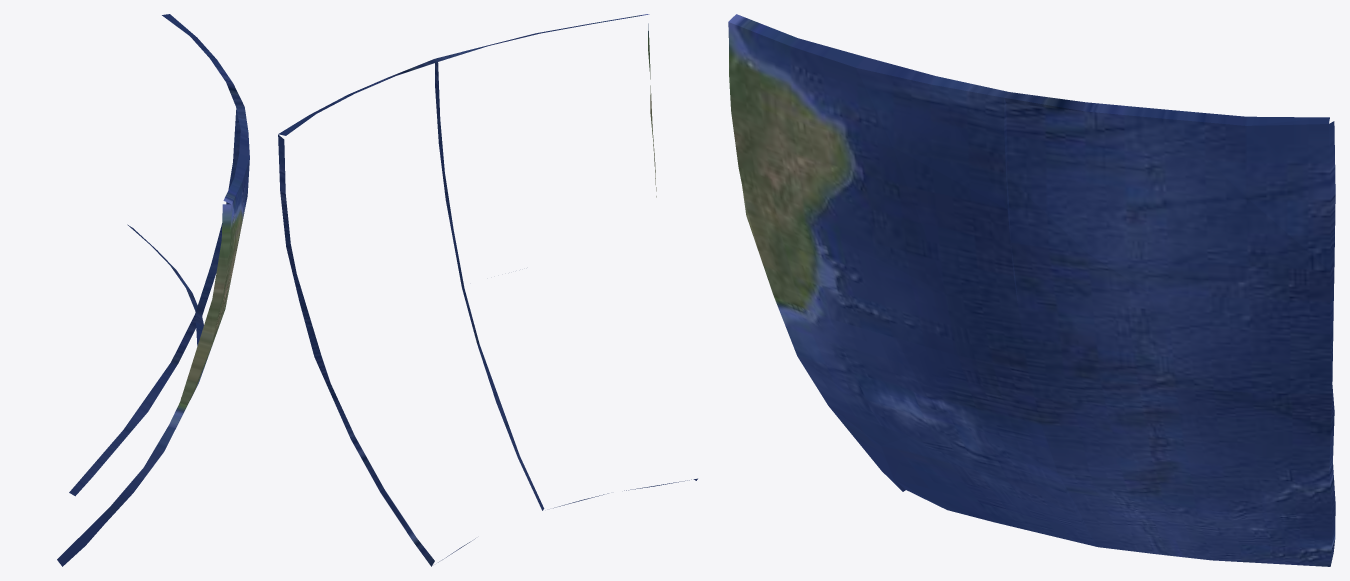
3 renders of one model, left to right at view 1: azimuth 30°, elevation 25°; view 2: azimuth 150°, elevation 25°; view 3: azimuth 270°, elevation 25°, orthographic. The views are drawn at different scales.
Size of the model in its own units: 3239328 by 4560573 by 4561381.
1 material, 1 textured.
